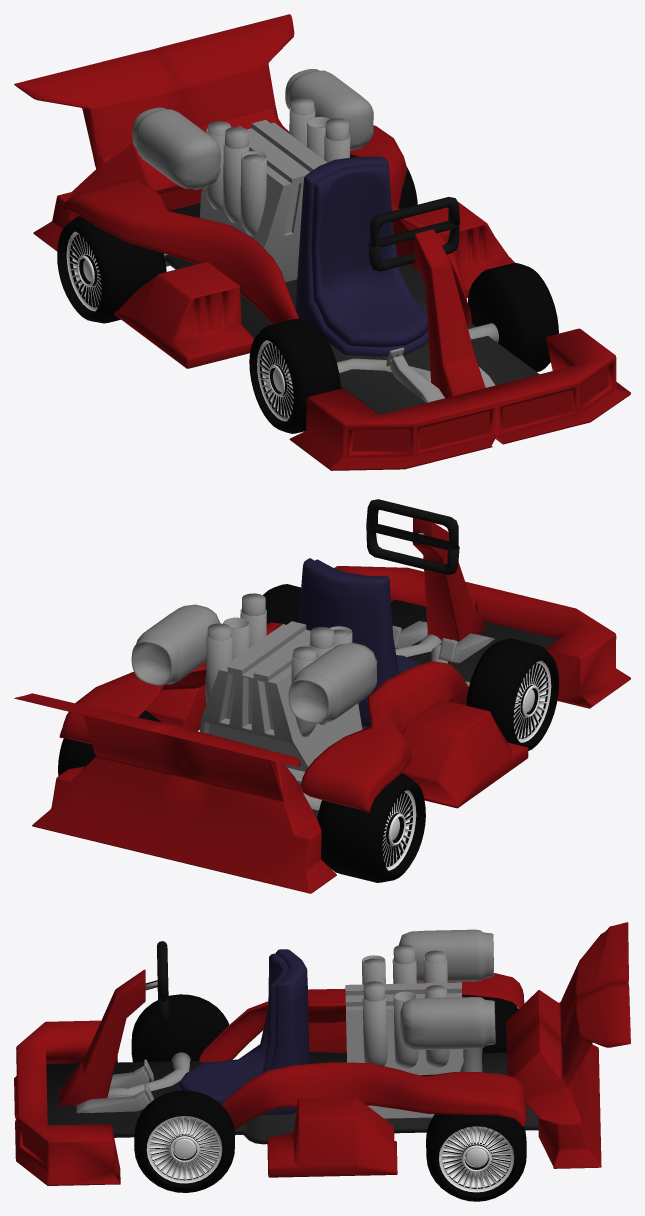
File: CartReDd 1.fbx
3 views of the same model, one above another, from view 1: azimuth 30°, elevation 25°; view 2: azimuth 150°, elevation 25°; view 3: azimuth 270°, elevation 25° (orthographic). The views are drawn at different scales.
Parts seen in each view (by area): view 1: JEEP-Body, Cube.004, Cube.008, JEEP- Wheel.Ft.R, JEEP- Wheel.Bk.R, Plane, Cube.007, JEEP- Wheel.Ft.L, Cylinder.003, Plane.002, Cylinder.007, Cube.005 (+1 smaller); view 2: JEEP-Body, Cube.007, Cube.008, JEEP- Wheel.Bk.R, Cube.004, JEEP- Wheel.Ft.R, Plane.002, Cylinder.003, Plane, Cylinder.007, JEEP- Wheel.Ft.L, Cube.005 (+2 smaller); view 3: JEEP-Body, JEEP- Wheel.Ft.L, Cube.008, Cube.004, JEEP- Wheel.Bk.L, Plane, JEEP- Wheel.Ft.R, Cylinder.003, Cube.007, Cube.005, Cylinder.007, Cylinder.010 (+3 smaller).
Part boxes in pixels (left/top/right/bottom): JEEP-Body: left=14, top=14, right=630, bottom=470; Cube.004: left=295, top=156, right=428, bottom=356; Cube.008: left=132, top=69, right=373, bottom=189; JEEP- Wheel.Ft.R: left=249, top=318, right=340, bottom=433; JEEP- Wheel.Bk.R: left=57, top=215, right=166, bottom=323; Plane: left=165, top=203, right=539, bottom=414; Cube.007: left=199, top=120, right=327, bottom=281; JEEP- Wheel.Ft.L: left=468, top=263, right=558, bottom=371; Cylinder.003: left=205, top=107, right=350, bottom=235; Plane.002: left=368, top=197, right=459, bottom=271; Cylinder.007: left=207, top=97, right=348, bottom=161; Cube.005: left=390, top=355, right=495, bottom=402; JEEP-Body: left=14, top=518, right=630, bottom=893; Cube.007: left=199, top=621, right=362, bottom=784; Cube.008: left=131, top=604, right=377, bottom=723; JEEP- Wheel.Bk.R: left=317, top=773, right=425, bottom=882; Cube.004: left=298, top=558, right=420, bottom=726; JEEP- Wheel.Ft.R: left=466, top=638, right=558, bottom=750; Plane.002: left=366, top=499, right=459, bottom=574; Cylinder.003: left=205, top=609, right=352, bottom=737; Plane: left=298, top=599, right=557, bottom=818; Cylinder.007: left=207, top=593, right=350, bottom=660; JEEP- Wheel.Ft.L: left=263, top=584, right=300, bottom=624; Cube.005: left=396, top=621, right=494, bottom=663; JEEP-Body: left=14, top=922, right=630, bottom=1185; JEEP- Wheel.Ft.L: left=134, top=1090, right=235, bottom=1192; Cube.008: left=399, top=929, right=495, bottom=1049; Cube.004: left=177, top=949, right=309, bottom=1114; JEEP- Wheel.Bk.L: left=426, top=1114, right=526, bottom=1201; Plane: left=46, top=1052, right=538, bottom=1144; JEEP- Wheel.Ft.R: left=131, top=994, right=229, bottom=1062; Cylinder.003: left=362, top=955, right=449, bottom=1068; Cube.007: left=345, top=982, right=463, bottom=1118; Cube.005: left=76, top=1066, right=149, bottom=1113; Cylinder.007: left=363, top=944, right=446, bottom=1001; Cylinder.010: left=107, top=1052, right=190, bottom=1102.
Size of the model in its own units: 778 by 442 by 1344.
